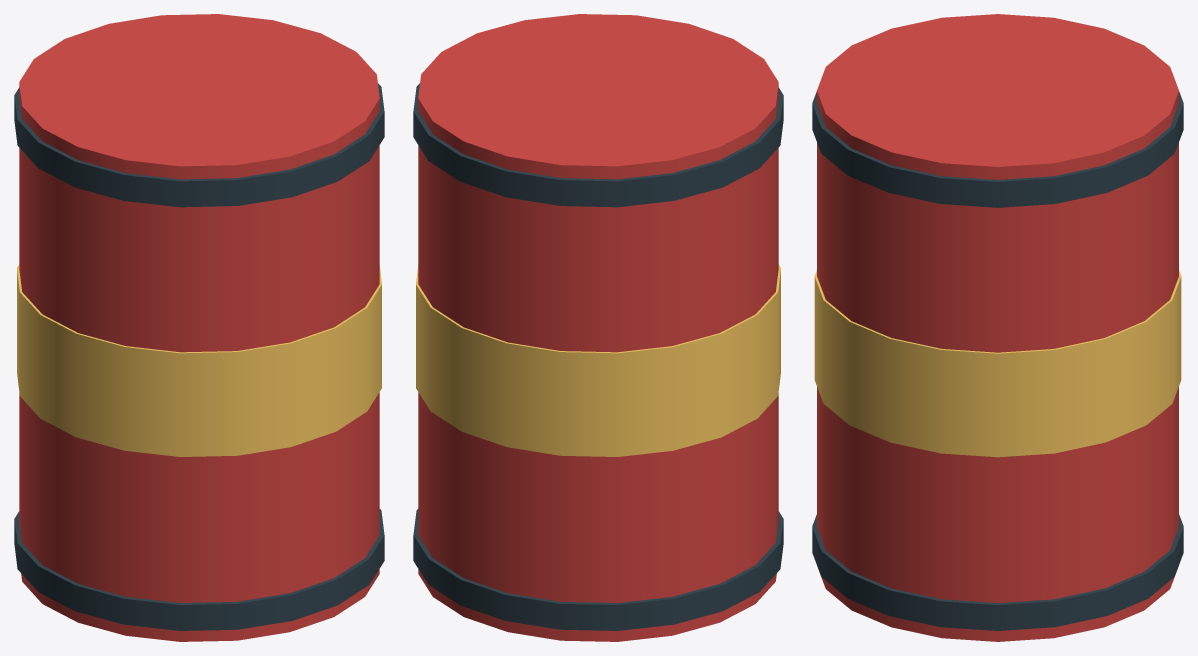
File: Barrel.glb
3 views of the same model, side by side, from view 1: azimuth 30°, elevation 25°; view 2: azimuth 150°, elevation 25°; view 3: azimuth 270°, elevation 25° (orthographic).
Parts seen in each view (by area): view 1: Barrel, YellowBand, Rim (×2); view 2: Barrel, YellowBand, Rim (×2); view 3: Barrel, YellowBand, Rim (×2).
Boxes of the visible parts, x1,y1,x2,y2 form: Barrel: (19, 14, 379, 641); YellowBand: (17, 264, 381, 456); Rim (×2): (14, 83, 384, 630); Barrel: (418, 14, 778, 641); YellowBand: (416, 264, 780, 456); Rim (×2): (413, 83, 783, 630); Barrel: (817, 14, 1178, 641); YellowBand: (814, 270, 1181, 457); Rim (×2): (812, 91, 1183, 630).
Size of the model in its own units: 0.78 by 1.1 by 0.78.
